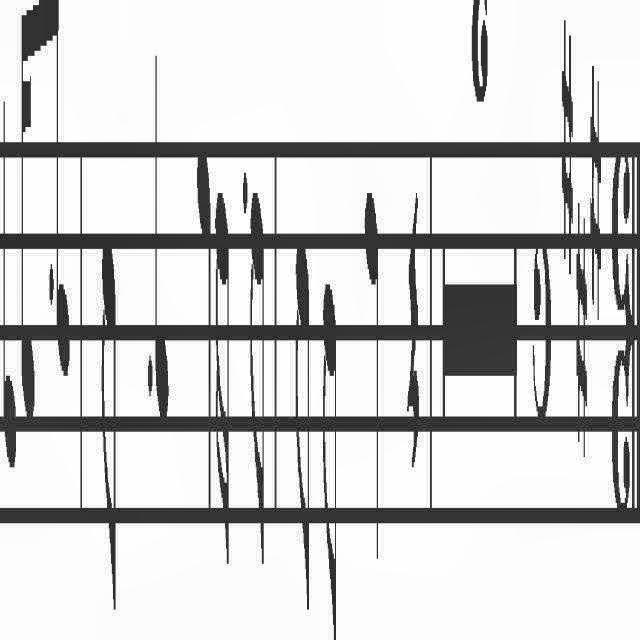Diez: (587, 32, 609, 360), (558, 8, 576, 266), (574, 193, 590, 473)
Eighth-note: (96, 136, 122, 640), (53, 0, 75, 452), (292, 214, 312, 634), (320, 268, 340, 640), (250, 180, 266, 588)
Quarter-note: (361, 165, 383, 603), (153, 51, 174, 507), (196, 127, 212, 557), (1, 104, 17, 480)
Quarter-rest: (402, 142, 422, 550)
Sixteenth-note: (18, 0, 38, 436), (214, 158, 232, 614)
